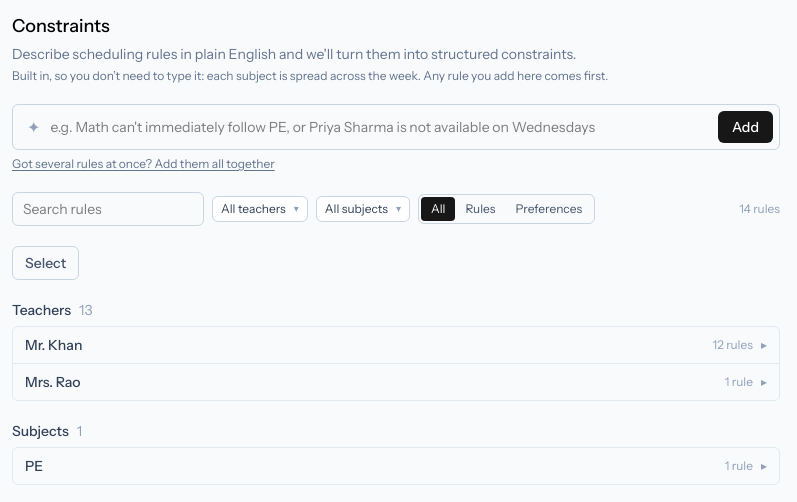
Test: searching and filtering › filters by teacher
Click the dropdown named "Filter by teacher". click: (260, 209)
box: [212, 196, 308, 222]
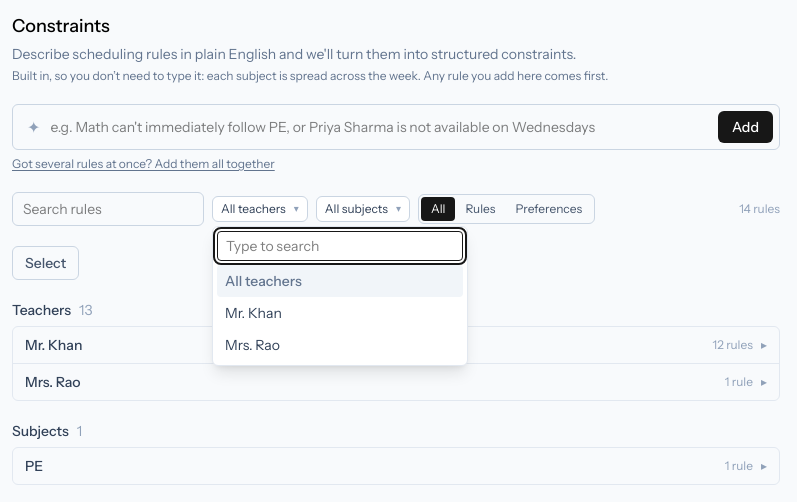
Click the option "Mrs. Rao". click: (252, 345)
box: [225, 336, 280, 354]
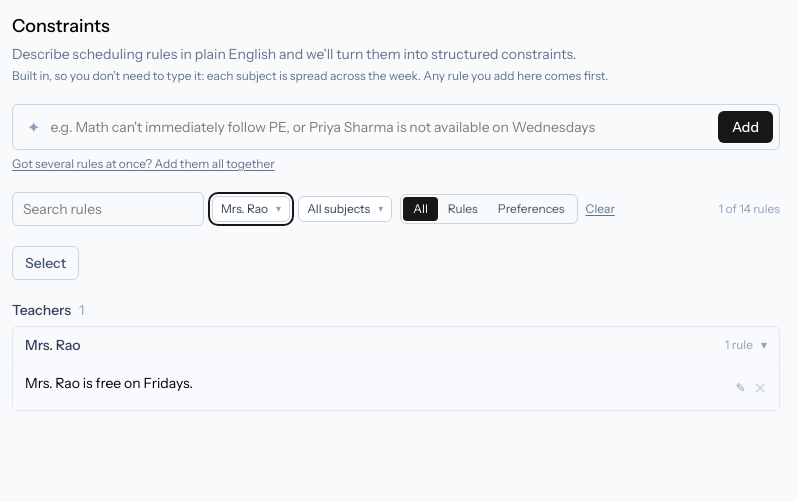
Expected: the text "Mrs. Rao is free on Fridays." is shown, [25, 374, 193, 392]
